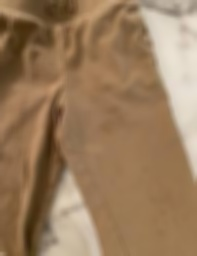oil: (89, 100, 122, 142), (135, 164, 151, 176)
